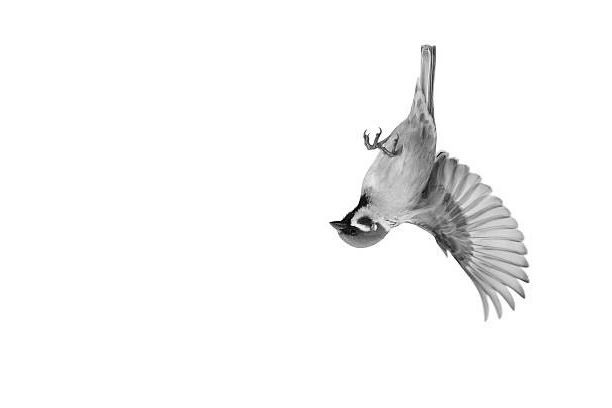Bird: (323, 43, 533, 324)
